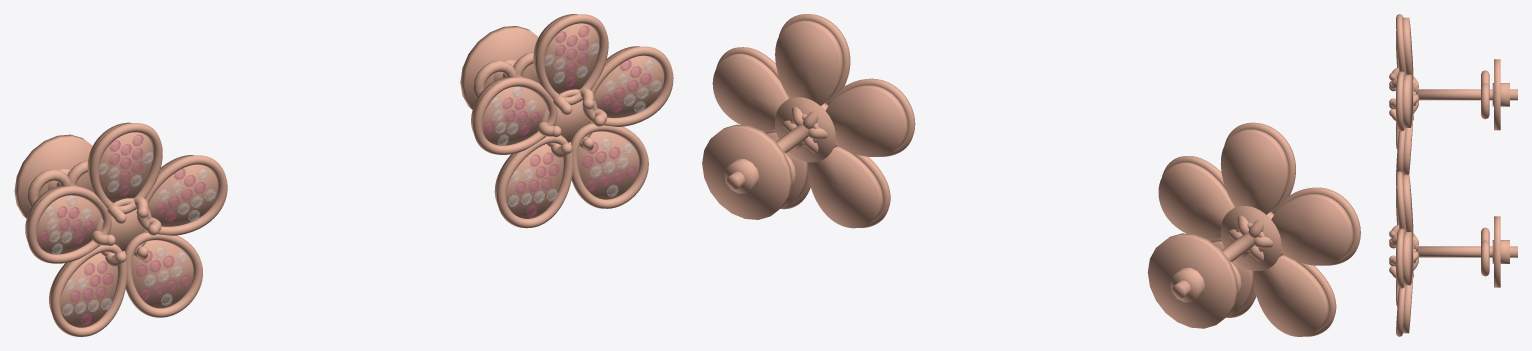
File: Earring_Blossom.glb
The picture shows the model from 3 angles, left to right: view 1: azimuth 30°, elevation 25°; view 2: azimuth 150°, elevation 25°; view 3: azimuth 270°, elevation 25°; orthographic projection. The views are drawn at different scales.
Parts seen in each view (by area): view 1: Halo_Petals.001, Halo_Petals, AccentPink_Pave.001, AccentPink_Pave, Attach_Back, Attach_Back.001, Accent_Pave.001, Accent_Pave, Head_Center, Head_Center.001; view 2: Halo_Petals, Halo_Petals.001, Attach_Back.001, Attach_Back, Head_Center, Head_Center.001, Attach_Post, Attach_Post.001; view 3: Halo_Petals, Halo_Petals.001, Attach_Back.001, Attach_Back, Attach_Post, Attach_Post.001, Head_Center, Head_Center.001.
Boxes of the visible parts, bbox=[...] form: Halo_Petals.001: bbox=[25, 122, 227, 336]; Halo_Petals: bbox=[471, 14, 673, 228]; AccentPink_Pave.001: bbox=[38, 134, 205, 324]; AccentPink_Pave: bbox=[484, 26, 651, 216]; Attach_Back: bbox=[460, 26, 538, 109]; Attach_Back.001: bbox=[14, 134, 92, 218]; Accent_Pave.001: bbox=[45, 152, 215, 315]; Accent_Pave: bbox=[491, 43, 661, 206]; Head_Center: bbox=[537, 88, 607, 157]; Head_Center.001: bbox=[92, 197, 161, 266]; Halo_Petals: bbox=[712, 14, 915, 228]; Halo_Petals.001: bbox=[1158, 122, 1360, 336]; Attach_Back.001: bbox=[1147, 233, 1241, 328]; Attach_Back: bbox=[702, 124, 796, 219]; Head_Center: bbox=[782, 103, 827, 153]; Head_Center.001: bbox=[1228, 212, 1273, 261]; Attach_Post: bbox=[726, 125, 808, 189]; Attach_Post.001: bbox=[1172, 233, 1254, 298]; Halo_Petals: bbox=[1396, 171, 1413, 336]; Halo_Petals.001: bbox=[1396, 14, 1413, 174]; Attach_Back.001: bbox=[1481, 59, 1509, 130]; Attach_Back: bbox=[1481, 216, 1509, 287]; Attach_Post: bbox=[1417, 246, 1517, 257]; Attach_Post.001: bbox=[1417, 89, 1517, 100]; Head_Center: bbox=[1389, 225, 1418, 278]; Head_Center.001: bbox=[1389, 67, 1418, 120].
Size of the model in its own units: 0.0405 by 0.0122 by 0.00969.
